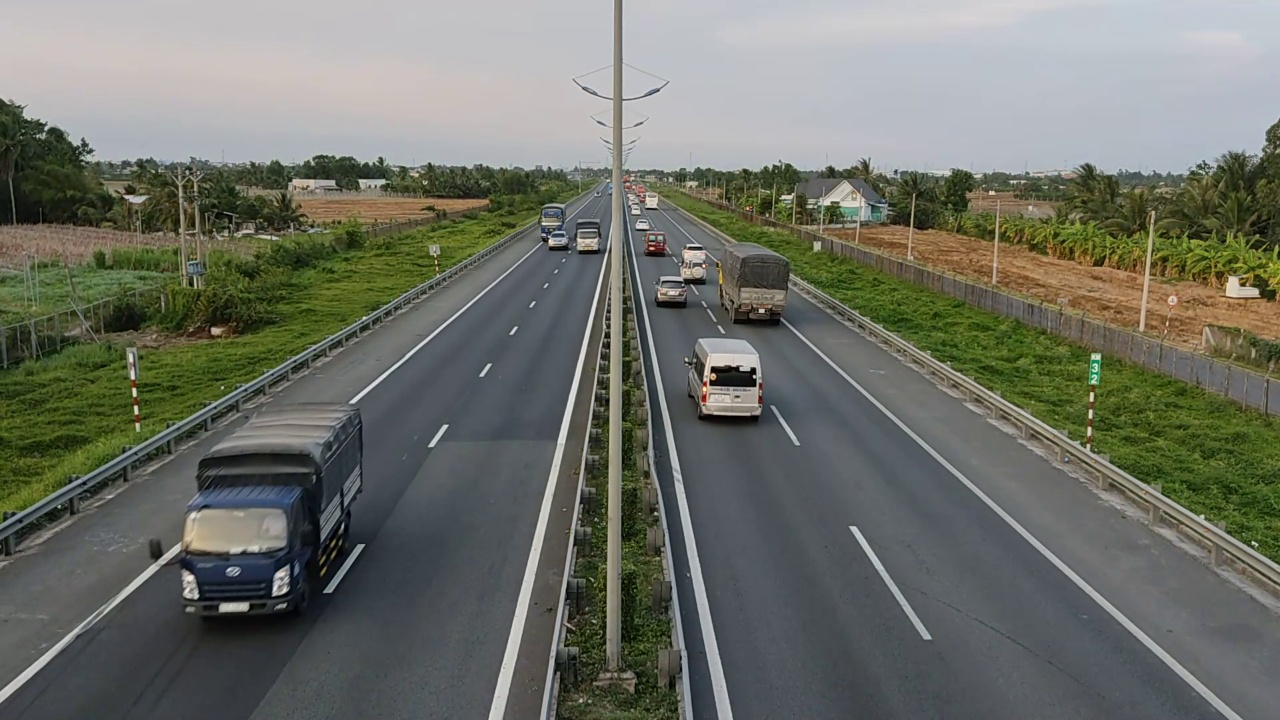car: (683, 331, 766, 426), (717, 241, 791, 324), (653, 276, 687, 307)
truck: (179, 401, 365, 621), (681, 243, 709, 283)
